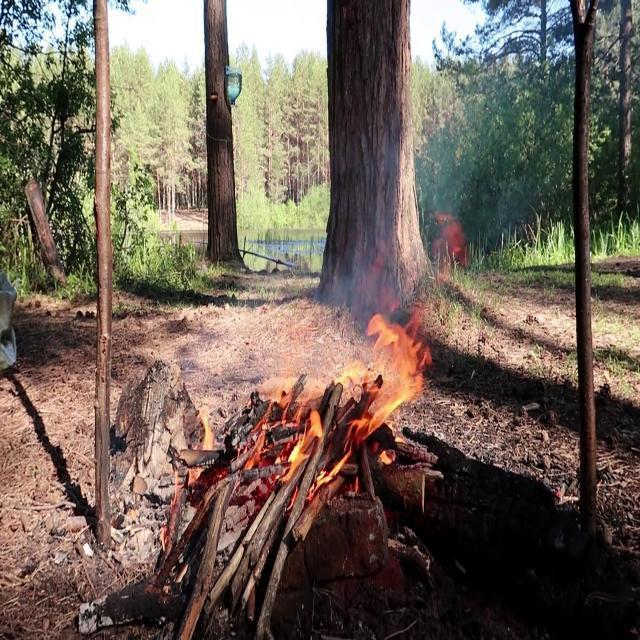Fire: (196, 311, 428, 480)
Smoke: (343, 122, 474, 329)
